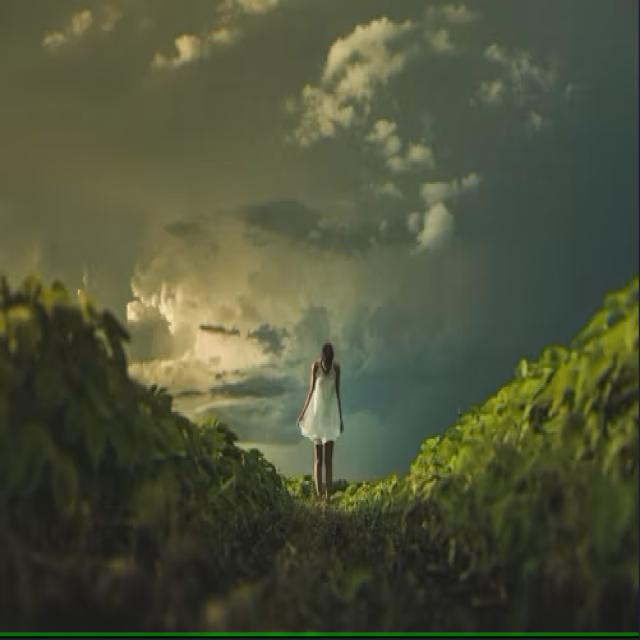Edited images: (296, 330, 359, 526)
